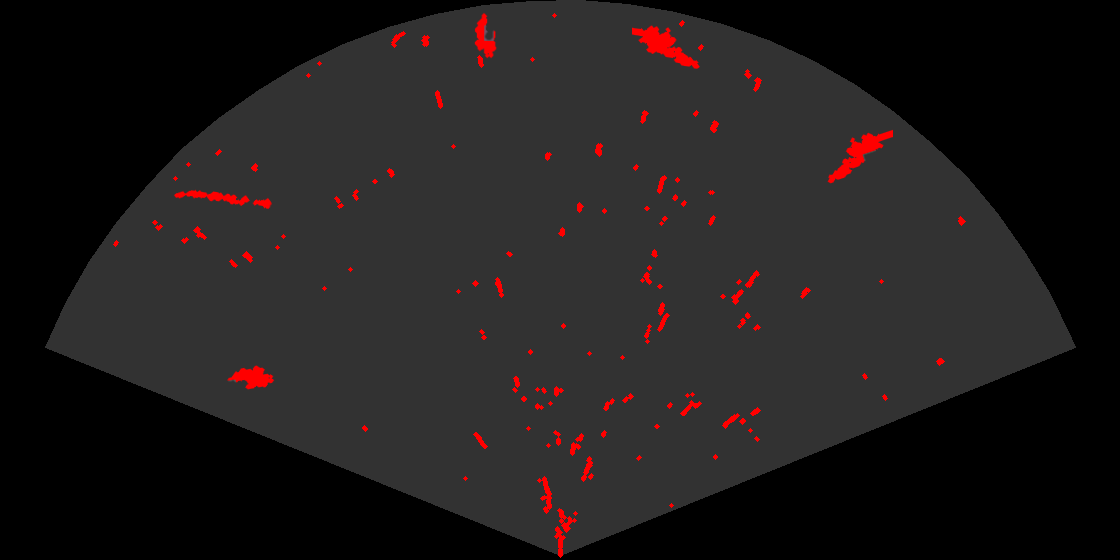AUV: (226, 364, 276, 391), (473, 11, 498, 60)
chain: (172, 188, 274, 210)
frogman: (826, 128, 893, 185), (632, 24, 701, 70)
